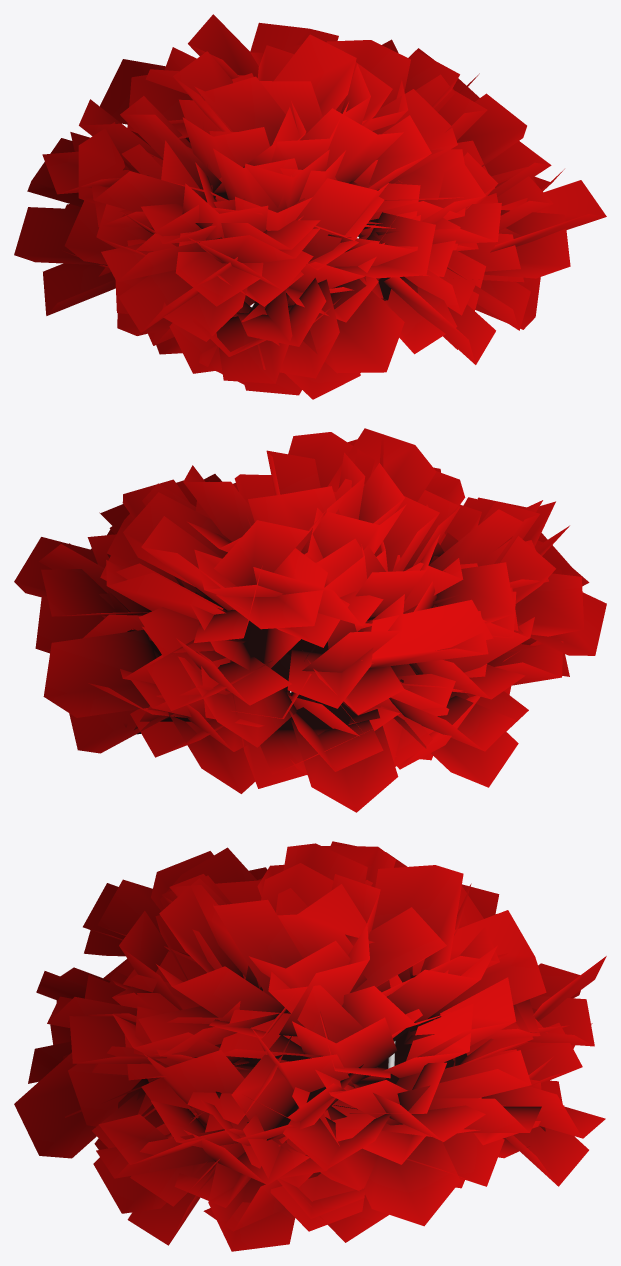
The model's file is Bush1.fbx.
The picture shows the model from 3 angles, top to bottom: view 1: azimuth 30°, elevation 25°; view 2: azimuth 150°, elevation 25°; view 3: azimuth 270°, elevation 25°; orthographic projection. The views are drawn at different scales.
Visible parts, largest first — view 1: Leafs; view 2: Leafs; view 3: Leafs.
Boxes of the visible parts, box(x1,y1,x2,y2) form: Leafs: box(14, 14, 606, 399); Leafs: box(14, 428, 606, 812); Leafs: box(14, 841, 606, 1251).
Bounding box in the file's own units: 2.41 × 1.51 × 2.45.
